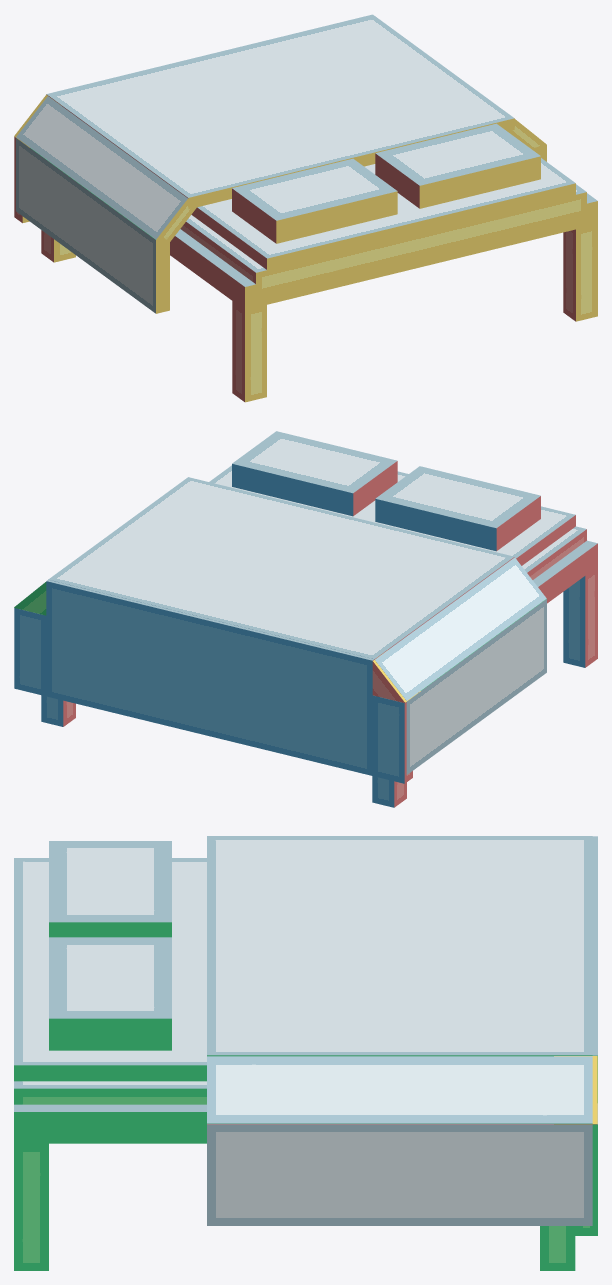
Rendered from FYGS bed.gltf.
3 renders of one model, top to bottom at view 1: azimuth 30°, elevation 25°; view 2: azimuth 150°, elevation 25°; view 3: azimuth 270°, elevation 25°, orthographic. The views are drawn at different scales.
Parts seen in each view (by area): view 1: cube (×13); view 2: cube (×17); view 3: cube (×13).
Part boxes in pixels (<box>): cube (×13): <box>16,14,597,402</box>; cube (×17): <box>14,431,597,807</box>; cube (×13): <box>14,836,597,1270</box>.
Size of the model in its own units: 2.22 by 0.875 by 2.08.
3 materials, 3 textured.
